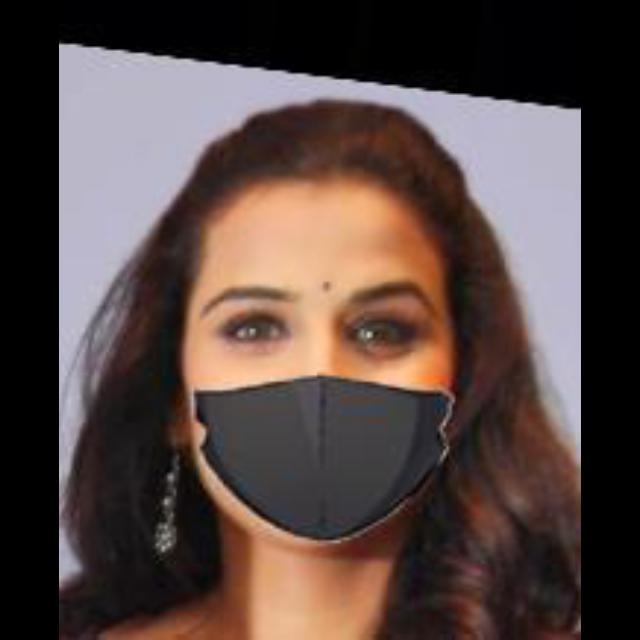suspicion: (99, 64, 477, 534)
